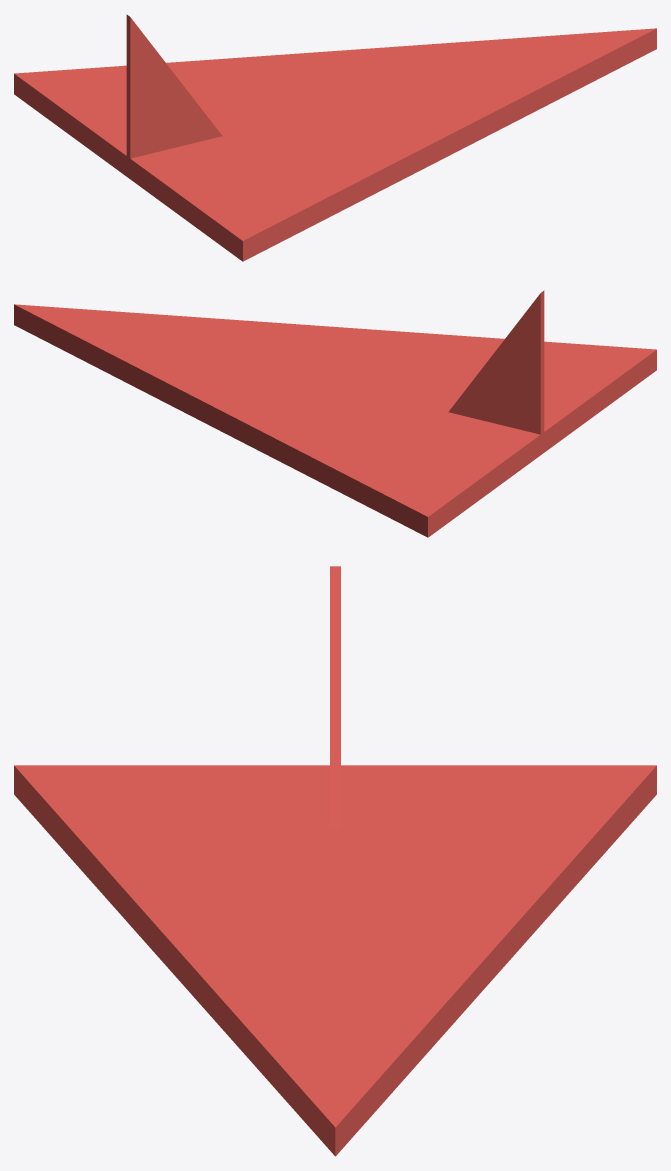
Rendered from minimal-plane.glb.
3 views of the same model, one above another, from view 1: azimuth 30°, elevation 25°; view 2: azimuth 150°, elevation 25°; view 3: azimuth 270°, elevation 25° (orthographic). The views are drawn at different scales.
Bounding box in the file's own units: 8 × 2.35 × 6.
